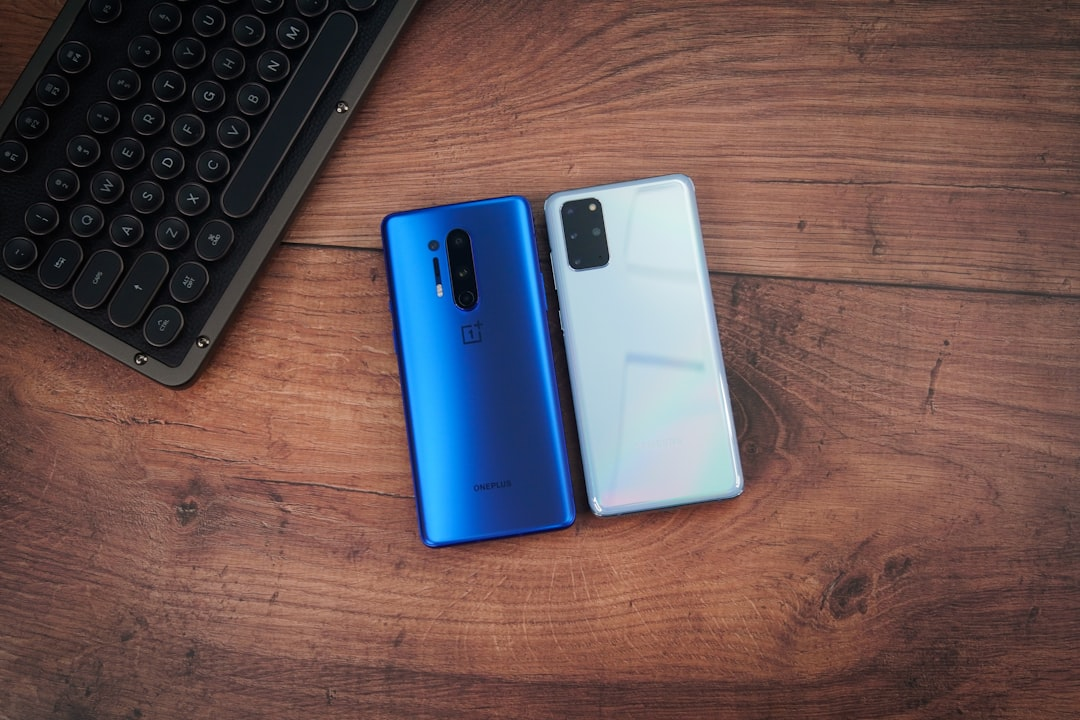phone: (372, 189, 591, 551), (535, 173, 747, 515)
